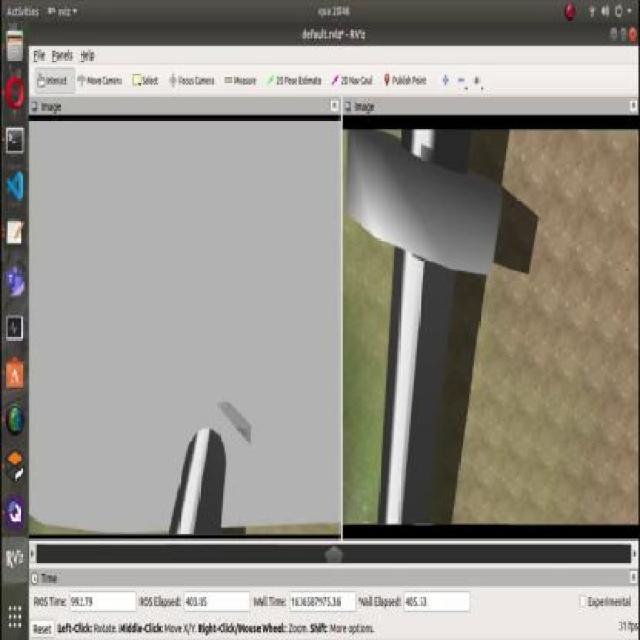gas: (375, 259, 436, 530), (397, 132, 451, 259), (168, 433, 228, 538)
